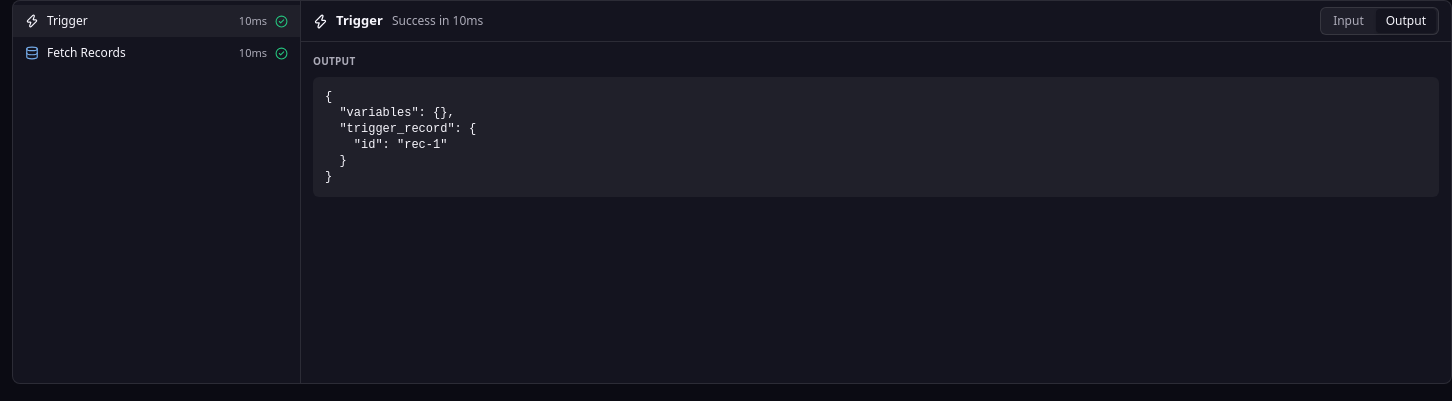
Scenario: ExecutionLogsPanel › renders a DataTable with an item count for an array-of-uniform-objects output
The image size is (1452, 401).
Click the button "Fetch Records 10ms": coordinates (86, 52) [13,37,300,69]
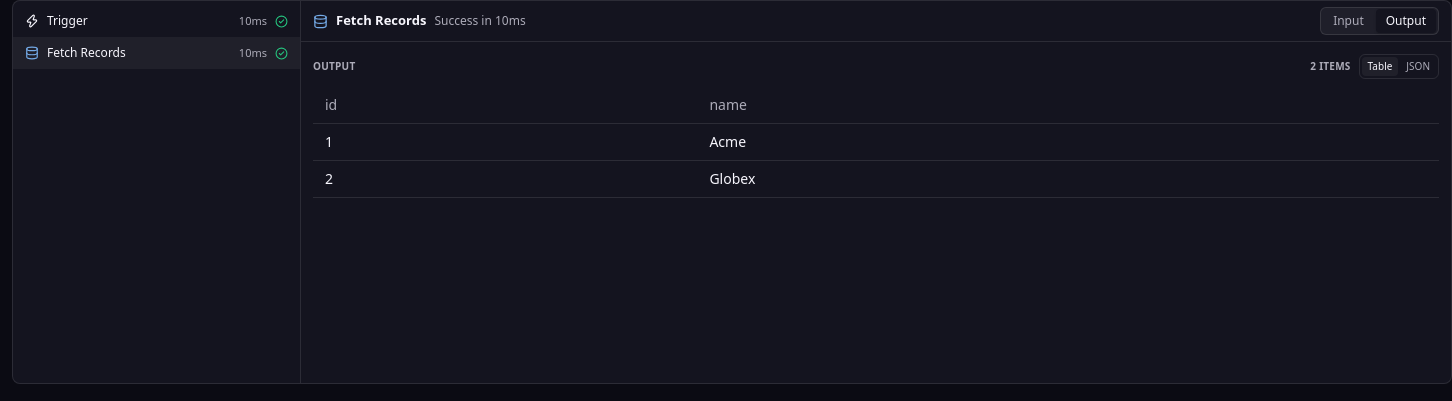
expect the table is shown: met, box [313,87,1439,198]
expect the text "2 items" is shown: met, box [1310,59,1351,74]
expect the text "name" is shown: met, box [709,95,747,114]
